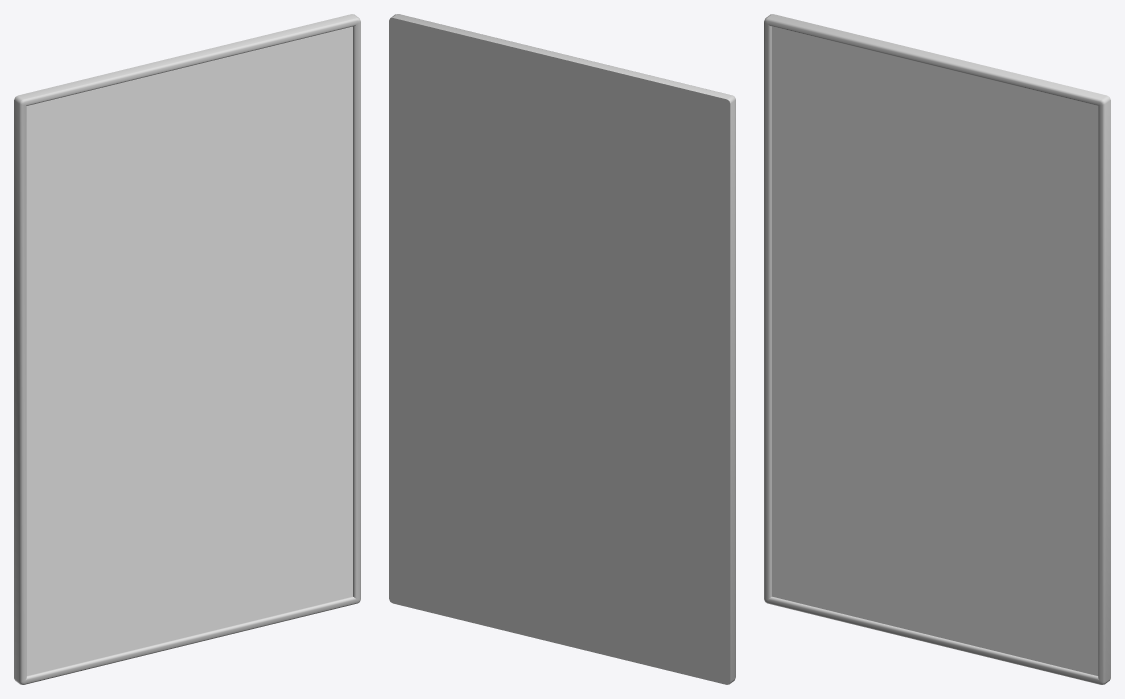
File: framed_sign_v.fbx
3 views of the same model, side by side, from view 1: azimuth 30°, elevation 25°; view 2: azimuth 150°, elevation 25°; view 3: azimuth 330°, elevation 25° (orthographic).
Parts seen in each view (by area): view 1: VERTICAL; view 2: VERTICAL; view 3: VERTICAL.
Part boxes in pixels (x1=…): VERTICAL: x1=14, y1=14, x2=360, y2=684; VERTICAL: x1=389, y1=14, x2=735, y2=684; VERTICAL: x1=764, y1=14, x2=1110, y2=684.
Bounding box in the file's own units: 122 × 200 × 4.
2 materials, 1 textured.
